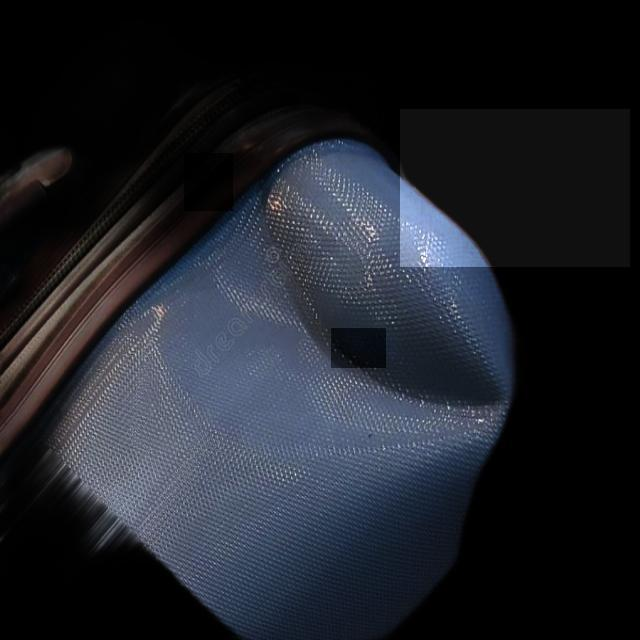Damage-bag: (264, 140, 511, 404)
